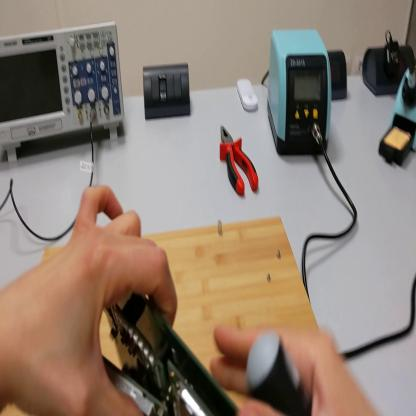hand: (1, 183, 173, 414), (206, 313, 374, 416)
low voltage board: (102, 298, 238, 415)
oscilloscope: (2, 21, 129, 164)
screwdriver-: (247, 333, 312, 415)
socket: (363, 42, 416, 97), (328, 50, 350, 104)
welder base: (378, 52, 416, 161)
welder probe tip: (409, 65, 415, 90)
welder station: (267, 32, 334, 156)
working area: (3, 217, 316, 415)
